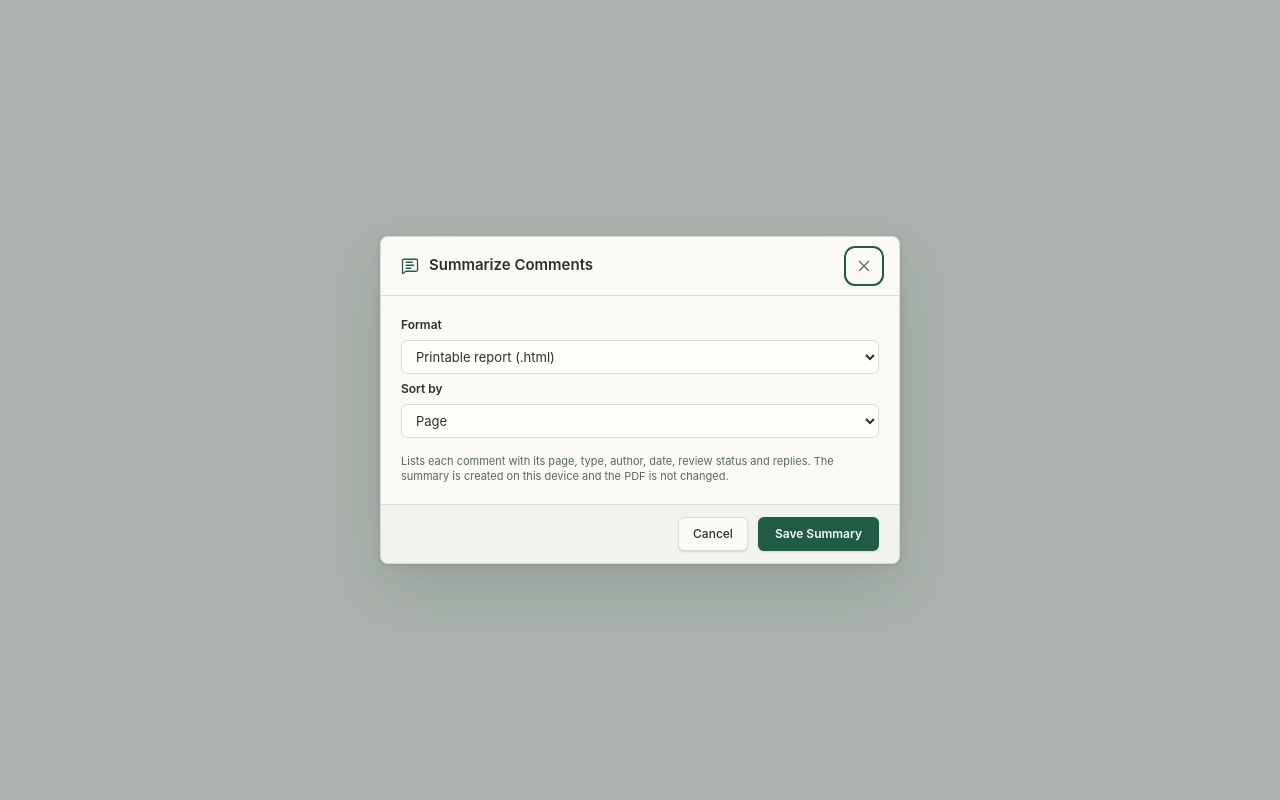
it: CommentSummaryDialog › explains when there is nothing to summarize
This screenshot has width=1280, height=800.
Click the button "Save Summary".
click(818, 534)  # box x1=758 y1=517 x2=879 y2=551
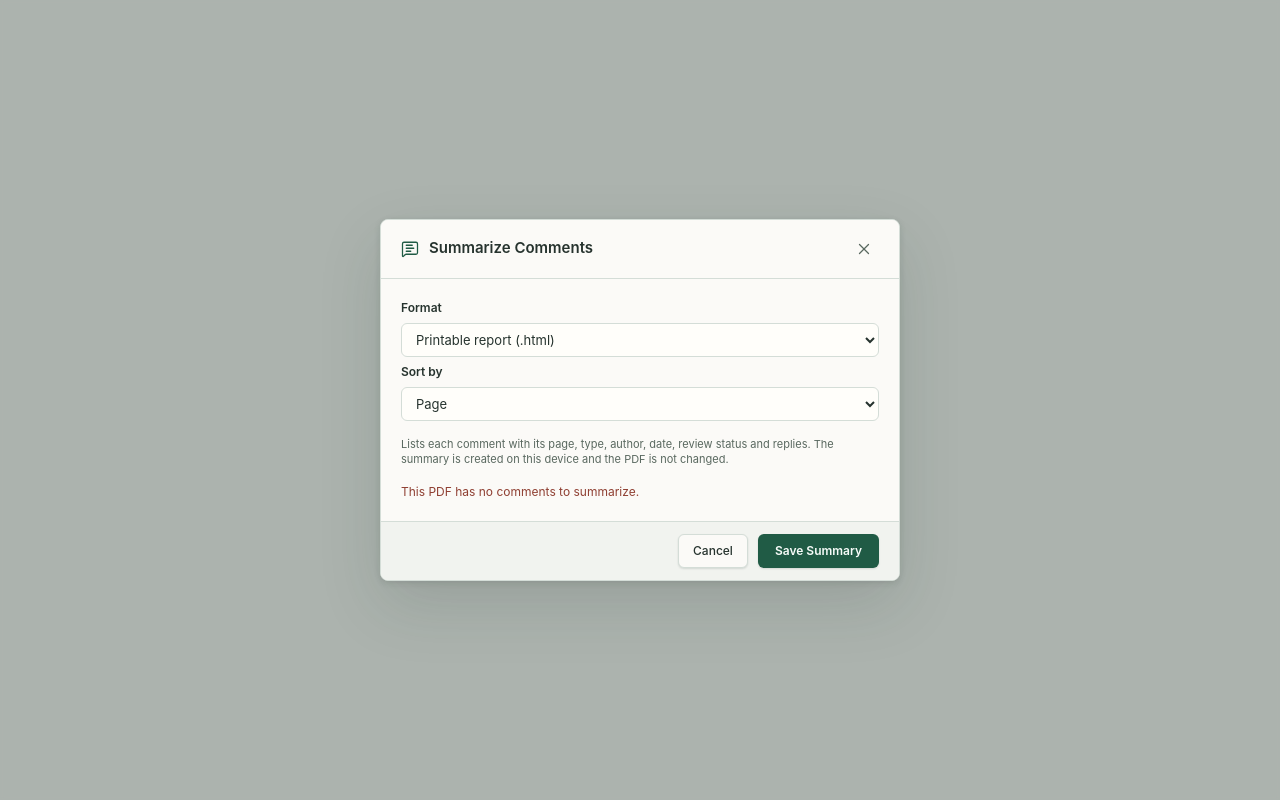
Expected: the message shows "no comments", x1=401 y1=484 x2=639 y2=499
